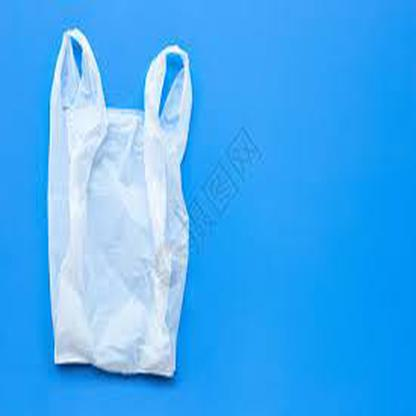plastic bag: (44, 28, 194, 377)
